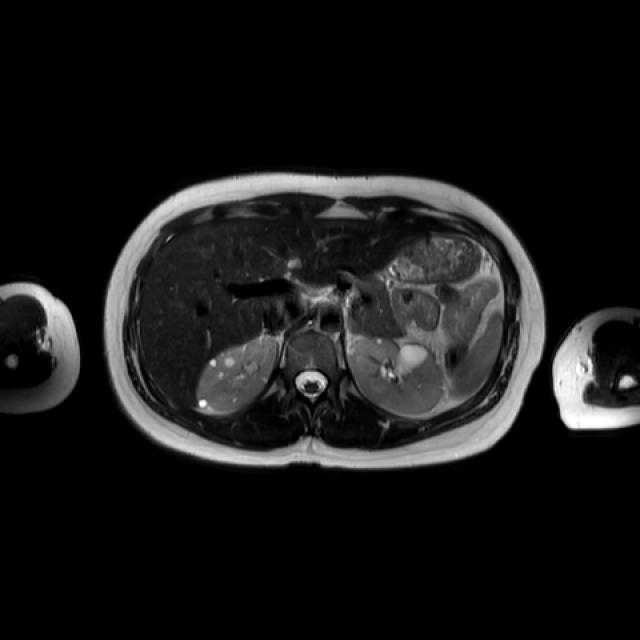sag: (196, 337, 278, 412)
sol: (348, 336, 444, 414)
